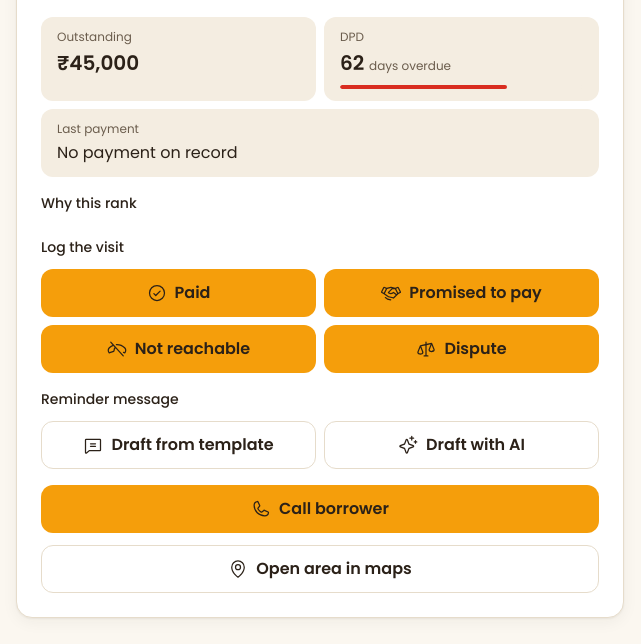
Test case: reminder panel › shows the draft text, its source, and requires a tap to send
(page scrolled)
Click the button "Draft from template" at (178, 445), box [41, 421, 316, 469]
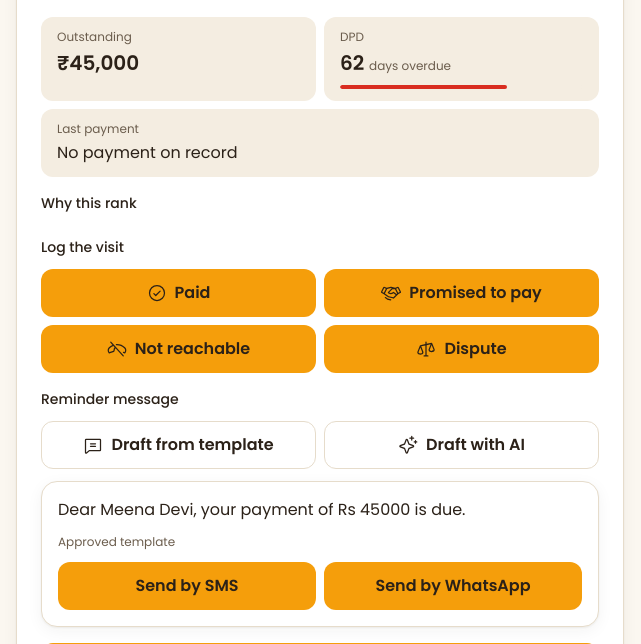
Expected: the text "Dear Meena Devi, your payment of Rs 45000 is due." is shown, [58, 498, 466, 521]
Expected: the text "Approved template" is shown, [58, 533, 175, 550]
Click the button "Send by SMS" at (187, 586), box [58, 562, 316, 610]
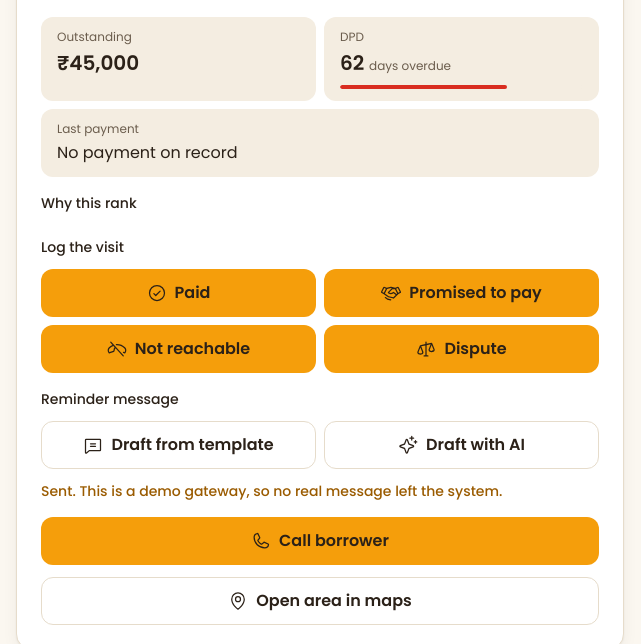
Expected: the message shows "demo gateway", [41, 481, 502, 501]
